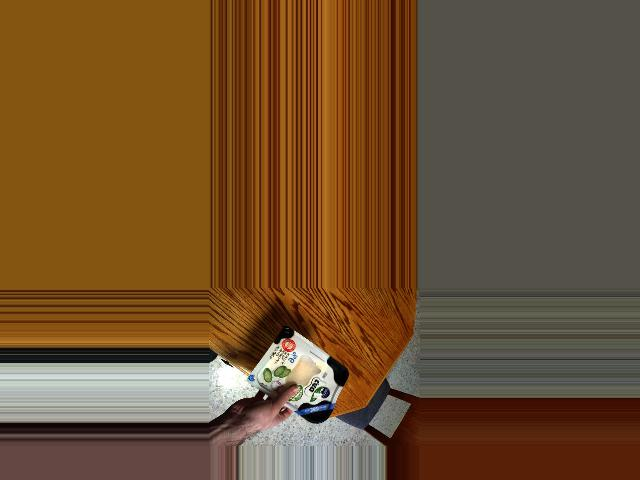cheese: (263, 332, 344, 429)
